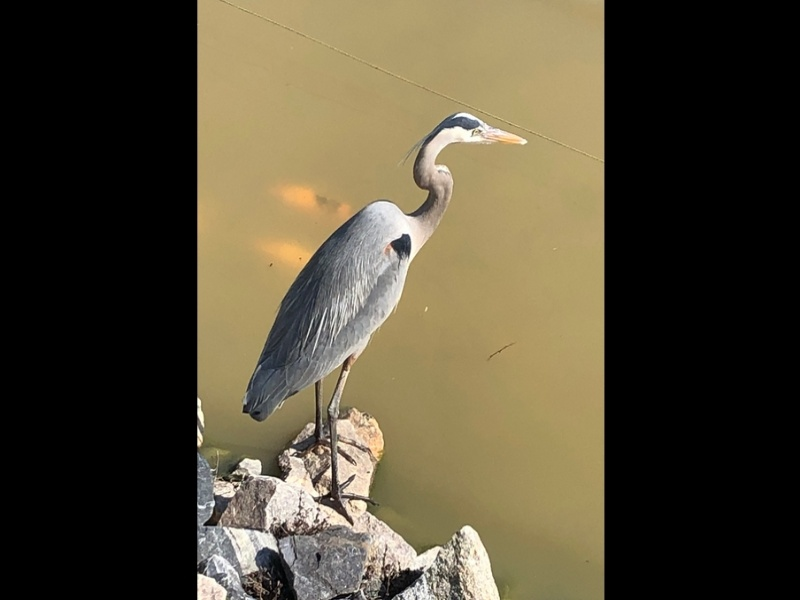heron: (240, 108, 535, 523)
